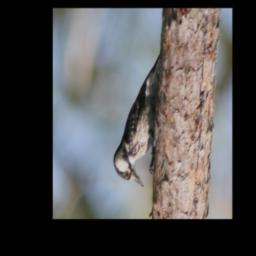Woodpecker: (113, 46, 160, 189)
